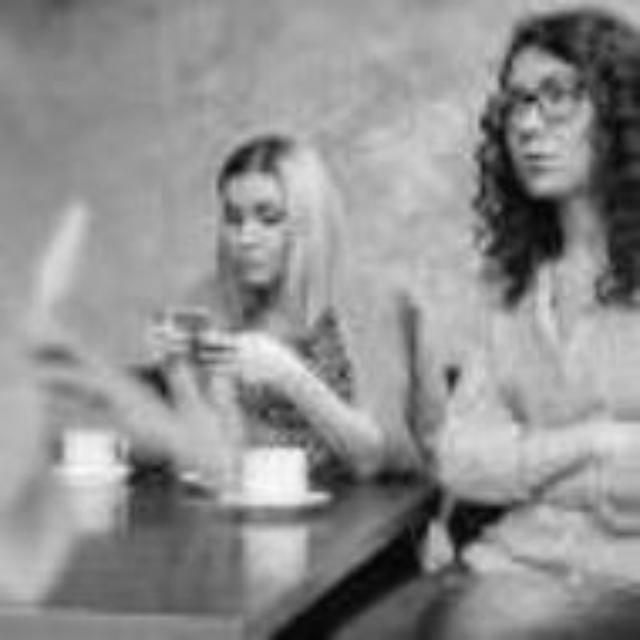fake: (132, 276, 260, 400)
